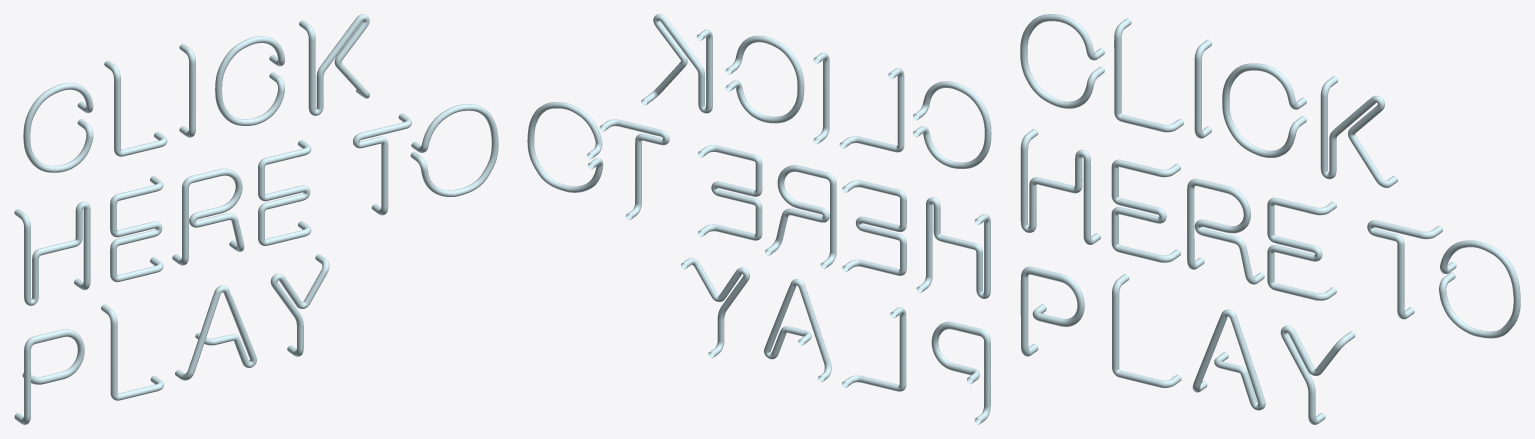
Rendered from clickHere3.glb.
The picture shows the model from 3 angles, left to right: view 1: azimuth 30°, elevation 25°; view 2: azimuth 150°, elevation 25°; view 3: azimuth 330°, elevation 25°; orthographic projection. The views are drawn at different scales.
Visible parts, largest first — view 1: g.032, g.031, g.035, g.033, g.034, g.037, defaultMaterial.020, defaultMaterial.001, g.038, g.041, defaultMaterial.017, defaultMaterial.030 (+4 smaller); view 2: g.032, g.031, g.035, g.034, g.033, defaultMaterial.020, g.037, defaultMaterial.001, g.038, g.041, defaultMaterial.017, defaultMaterial.030 (+4 smaller); view 3: g.032, g.031, g.035, g.034, g.033, g.037, defaultMaterial.020, defaultMaterial.001, g.038, g.041, defaultMaterial.017, defaultMaterial.027 (+4 smaller).
Boxes of the visible parts, left/top/right/bottom form: g.032: left=14, top=201, right=90, bottom=305; g.031: left=299, top=14, right=369, bottom=115; g.035: left=172, top=168, right=244, bottom=265; g.033: left=110, top=176, right=163, bottom=282; g.034: left=258, top=140, right=311, bottom=245; g.037: left=410, top=104, right=498, bottom=196; defaultMaterial.020: left=175, top=285, right=256, bottom=380; defaultMaterial.001: left=215, top=36, right=284, bottom=125; g.038: left=14, top=329, right=84, bottom=424; g.041: left=270, top=254, right=329, bottom=356; defaultMaterial.017: left=353, top=113, right=411, bottom=215; defaultMaterial.030: left=23, top=83, right=91, bottom=172; g.032: left=916, top=197, right=990, bottom=298; g.031: left=641, top=14, right=712, bottom=113; g.035: left=765, top=165, right=836, bottom=268; g.034: left=698, top=145, right=762, bottom=240; g.033: left=842, top=180, right=906, bottom=275; defaultMaterial.020: left=764, top=279, right=831, bottom=382; g.037: left=527, top=102, right=603, bottom=192; defaultMaterial.001: left=725, top=35, right=804, bottom=123; g.038: left=931, top=321, right=990, bottom=424; g.041: left=681, top=258, right=749, bottom=358; defaultMaterial.017: left=599, top=119, right=669, bottom=220; defaultMaterial.030: left=913, top=81, right=991, bottom=168; g.032: left=1020, top=129, right=1100, bottom=244; g.031: left=1320, top=76, right=1398, bottom=187; g.035: left=1187, top=178, right=1264, bottom=284; g.034: left=1267, top=197, right=1336, bottom=300; g.033: left=1111, top=159, right=1180, bottom=262; g.037: left=1439, top=240, right=1520, bottom=338; defaultMaterial.020: left=1192, top=309, right=1265, bottom=410; defaultMaterial.001: left=1222, top=63, right=1306, bottom=157; g.038: left=1020, top=266, right=1084, bottom=356; g.041: left=1280, top=325, right=1355, bottom=424; defaultMaterial.017: left=1367, top=220, right=1442, bottom=319; defaultMaterial.027: left=1022, top=15, right=1104, bottom=108.
Bounding box in the file's own units: 1.25 × 0.8519 × 0.057.
Materials: 15 (15 with a texture image).
